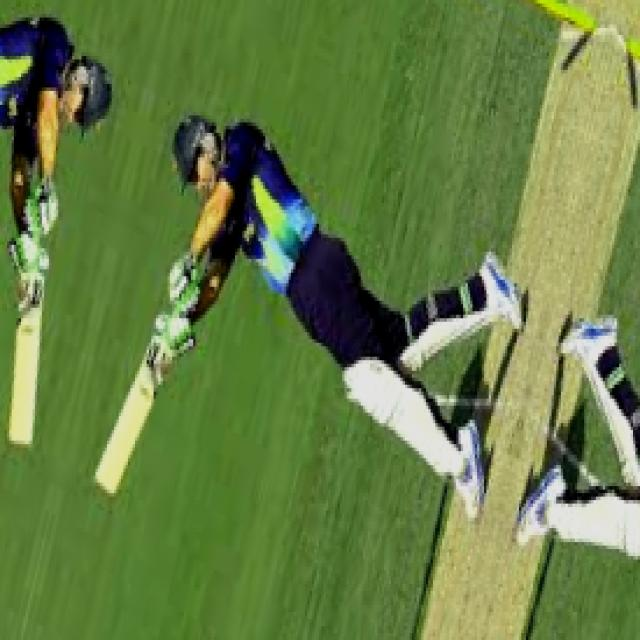toe: (90, 470, 119, 497)
